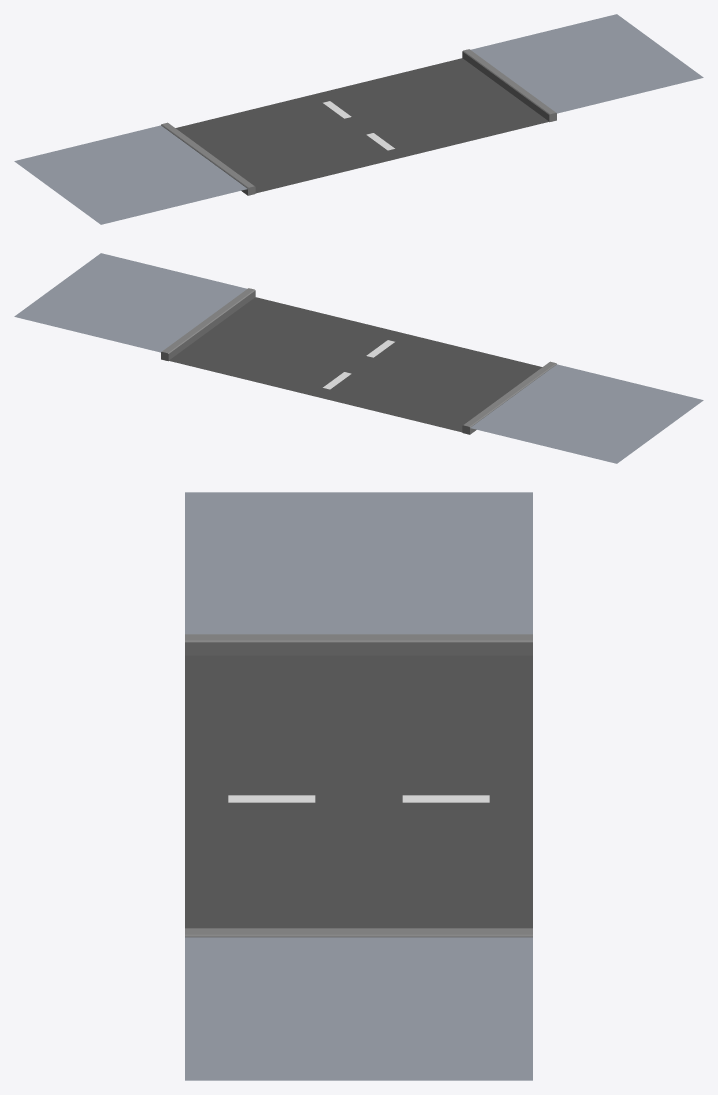
Rendered from Road_01.fbx.
The picture shows the model from 3 angles, top to bottom: view 1: azimuth 30°, elevation 25°; view 2: azimuth 150°, elevation 25°; view 3: azimuth 270°, elevation 25°; orthographic projection. The views are drawn at different scales.
Visible parts, largest first — view 1: Road_01_LOD0; view 2: Road_01_LOD0; view 3: Road_01_LOD0.
Part boxes in pixels (left/top/right/bottom): Road_01_LOD0: left=14, top=14, right=703, bottom=224; Road_01_LOD0: left=14, top=253, right=703, bottom=463; Road_01_LOD0: left=185, top=492, right=532, bottom=1080.
Size of what is drawn, in the model's own units: 12 by 0.15 by 3.
